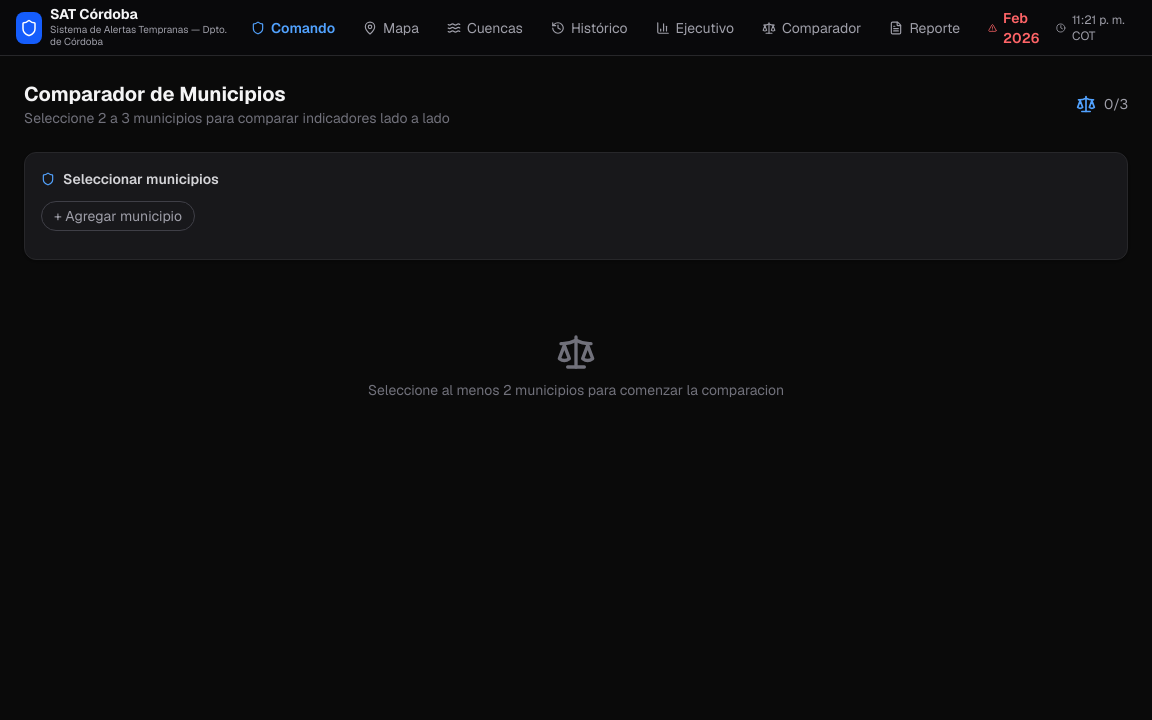
Test: ComparadorPage › removes a municipality when clicking its chip
Click the button with test id "add-municipality-btn": [118, 216] box [41, 201, 195, 231]
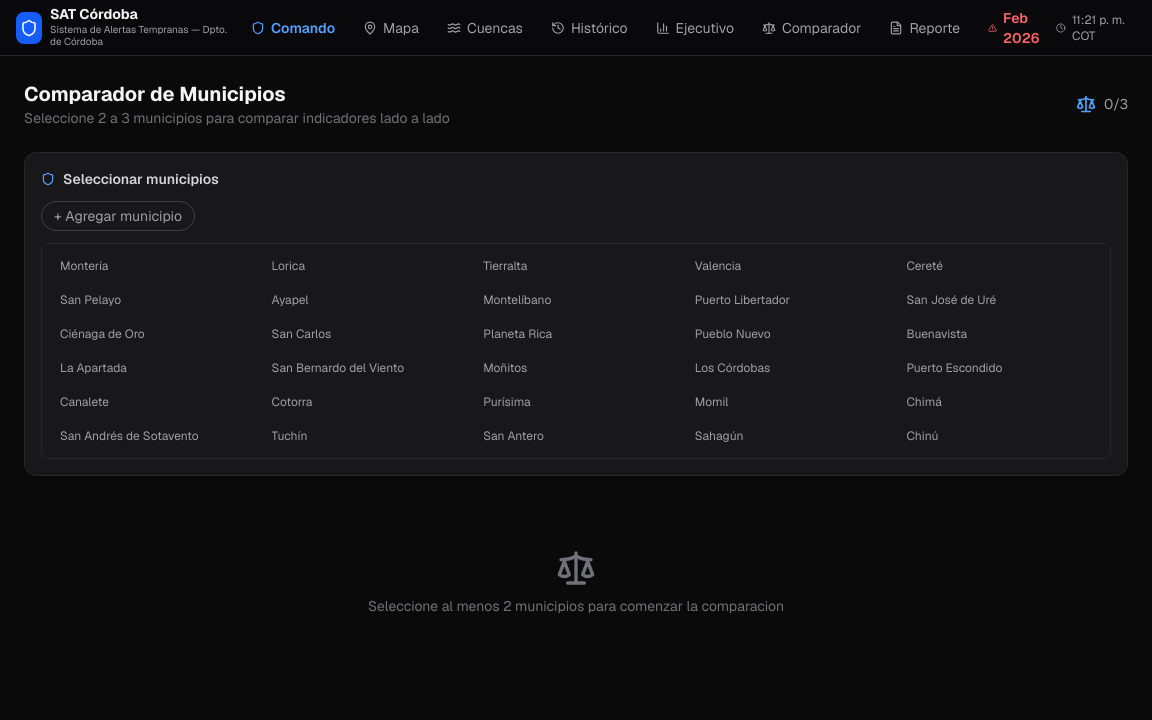
Click the button "Montería": [153, 266] box [50, 252, 256, 280]
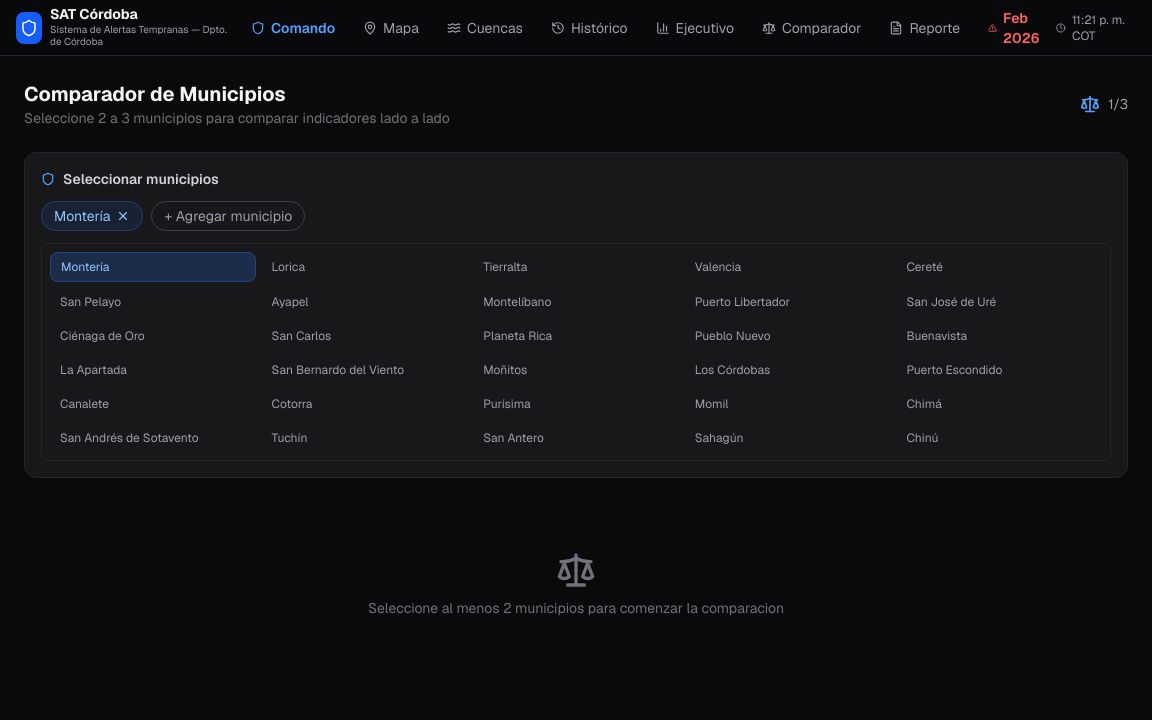
Click the button "Lorica": [364, 267] box [262, 252, 467, 282]
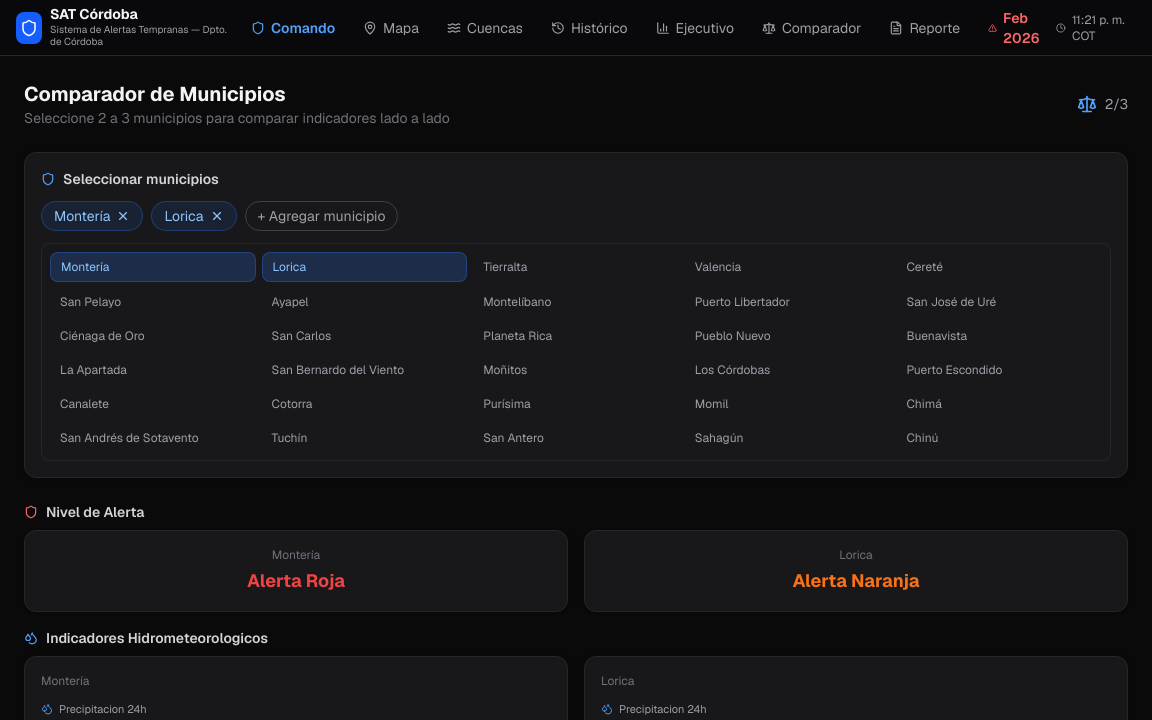
Result: the 1st button "Montería" is shown
Click the 1st button "Montería": [92, 216] box [41, 201, 144, 231]
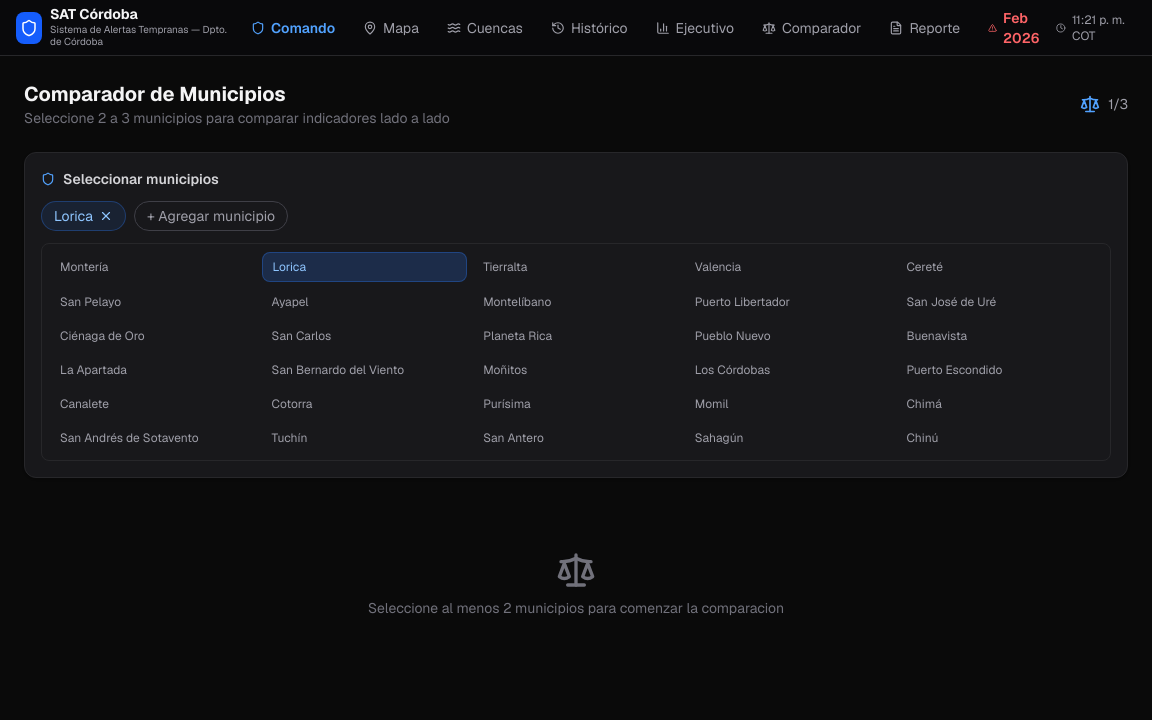
Result: the element with test id "comparison-prompt" is shown at [368, 550, 784, 617]
